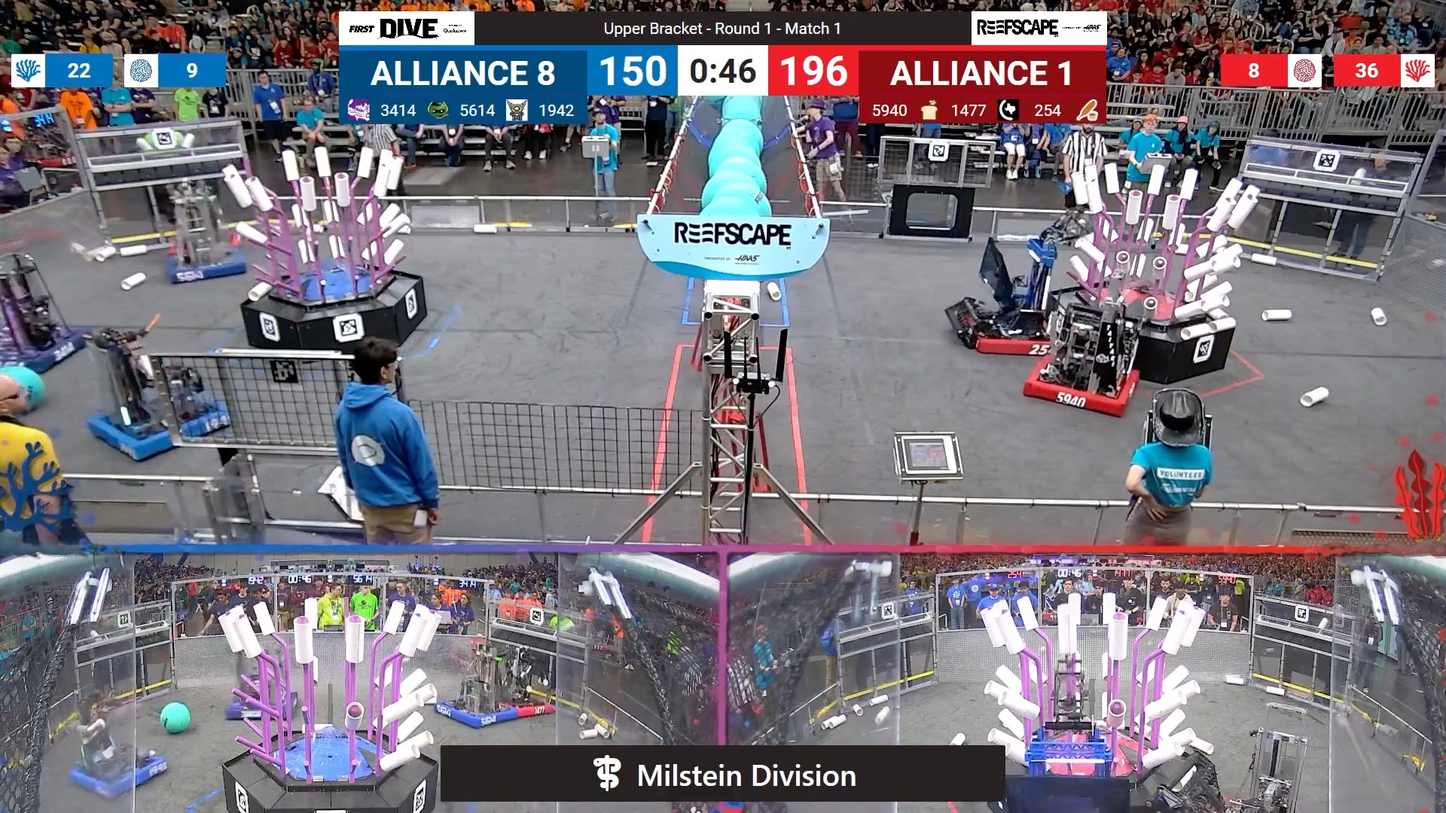bumpers: (82, 395, 243, 467), (1018, 349, 1149, 419), (0, 323, 100, 394), (62, 744, 180, 803), (955, 308, 1069, 362), (155, 247, 257, 291), (427, 696, 526, 733), (502, 692, 559, 719)
